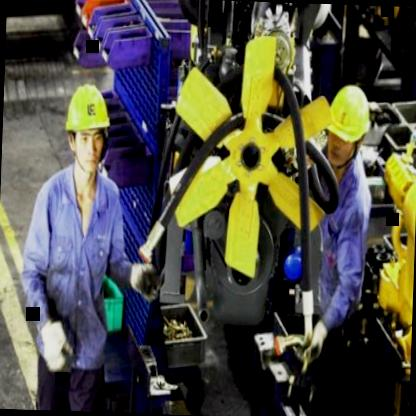helmet: (324, 78, 378, 178), (61, 80, 113, 180)
